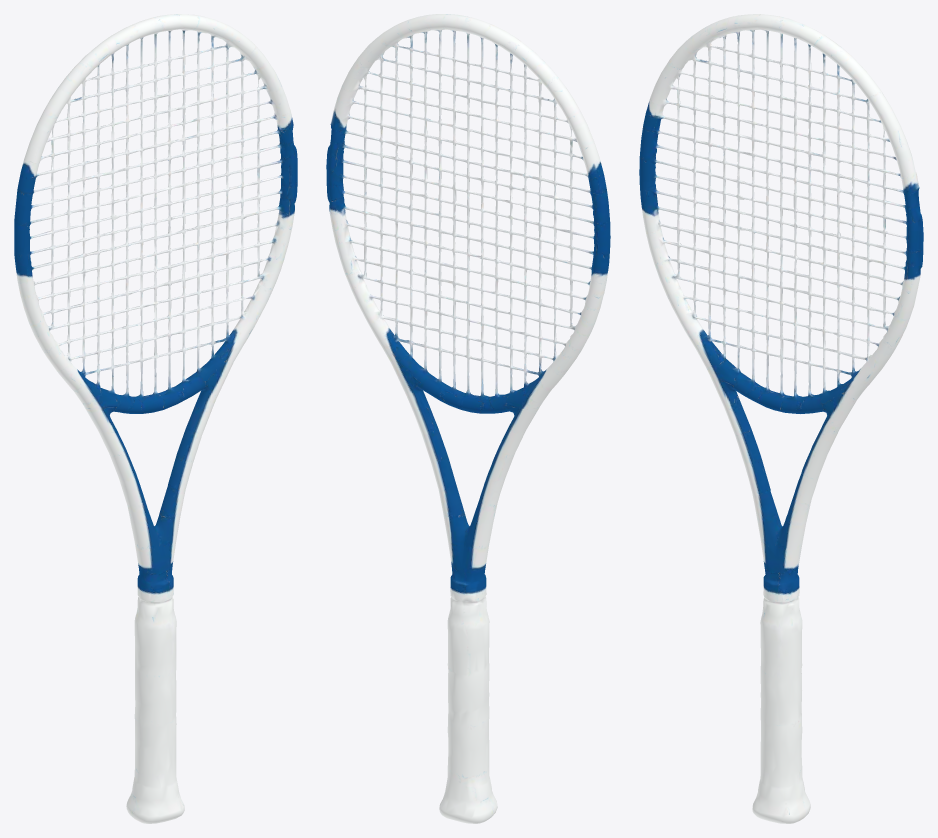
The model's file is racquet_blue.glb.
3 renders of one model, left to right at view 1: azimuth 30°, elevation 25°; view 2: azimuth 150°, elevation 25°; view 3: azimuth 330°, elevation 25°, orthographic.
Size of the model in its own units: 0.7025 by 1.9 by 0.1184.
1 material, 1 textured.
